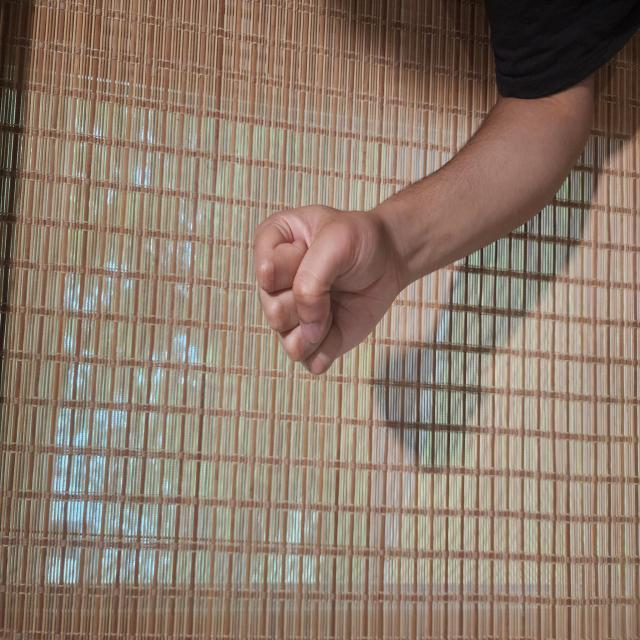S: (192, 332, 331, 530)
